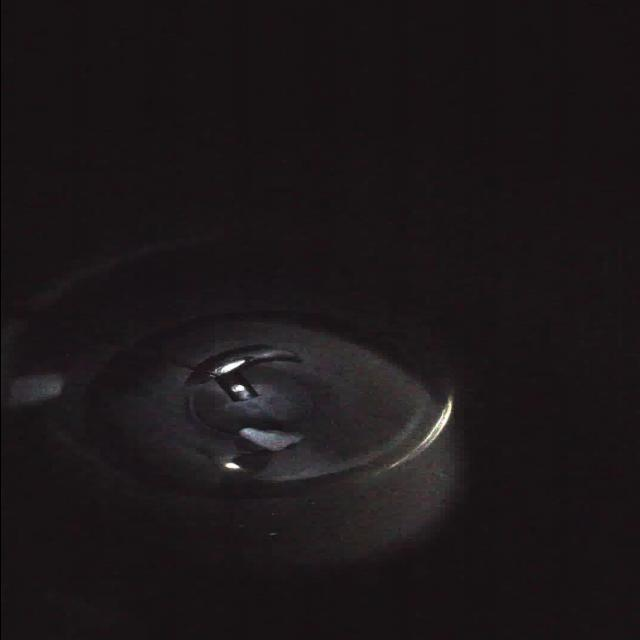impurity: (235, 420, 308, 456)
